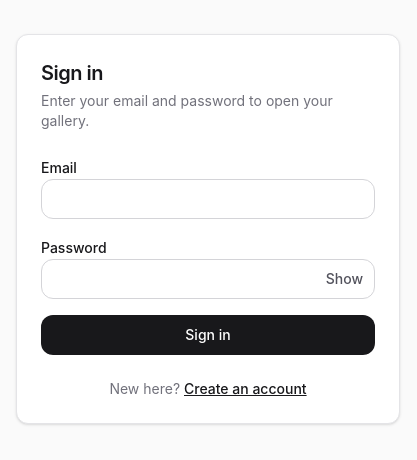
Test: SignInPage › shows the server's failure in plain words and moves focus to it
The image size is (417, 460).
Step 1. Type "ada@example.com" into the field labelled "Email" → (208, 199), box [41, 179, 375, 219]
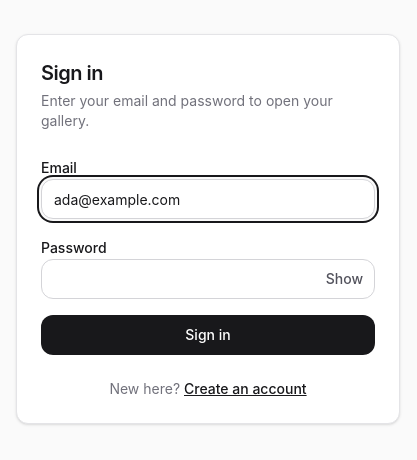
Step 2. Type "wrong-password" into the password field labelled "Password" → (208, 279), box [41, 259, 375, 299]
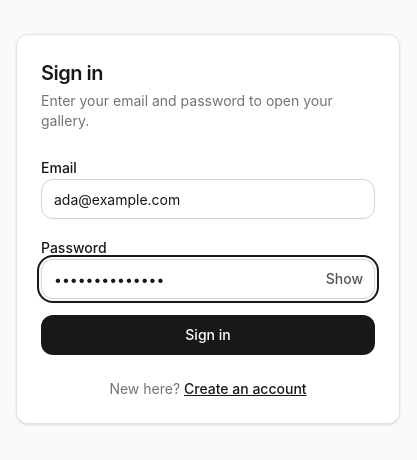
Step 3. Click the button "Sign in" → (208, 335), box [41, 315, 375, 355]
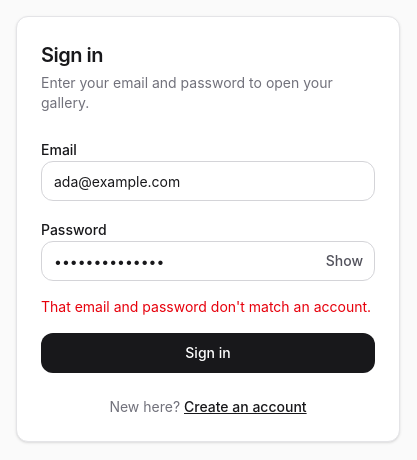
Check: the button "Sign in" is enabled, box [41, 333, 375, 373]
Check: the message reads "That email and password don't match an account.", box [41, 298, 371, 315]
